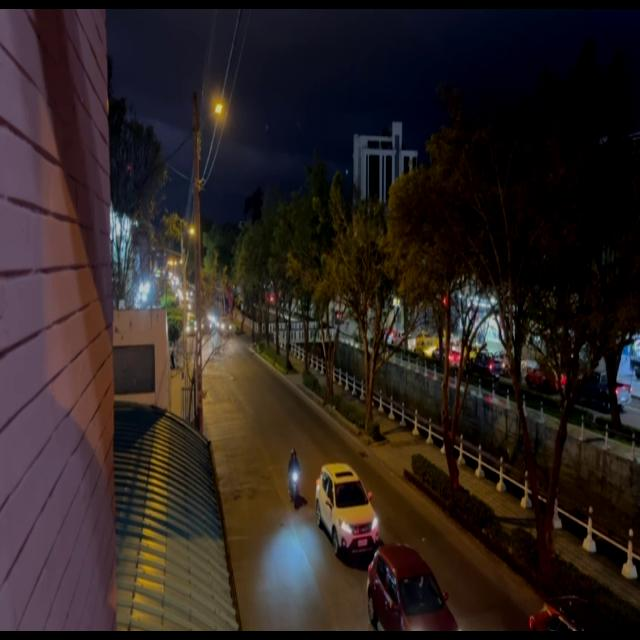MOTORCYCLE: (288, 468, 302, 504)
SUV: (367, 546, 443, 636), (314, 460, 378, 558)
